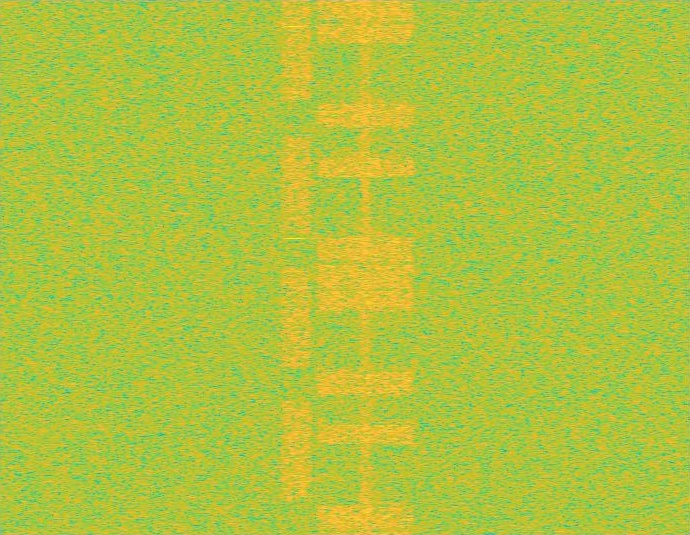5G: (279, 0, 314, 534)
DSSS: (359, 0, 373, 534)
LTE: (314, 0, 417, 534)
Radar: (287, 0, 301, 534)
